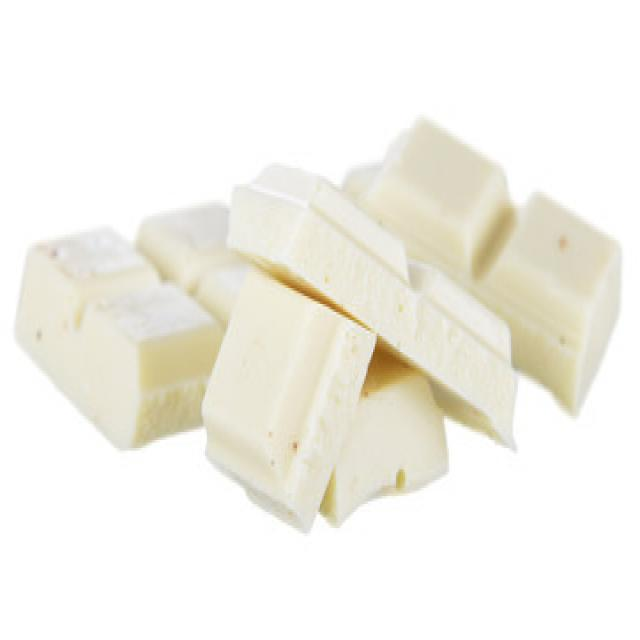Chocolate: (27, 111, 624, 534), (204, 171, 519, 529)
